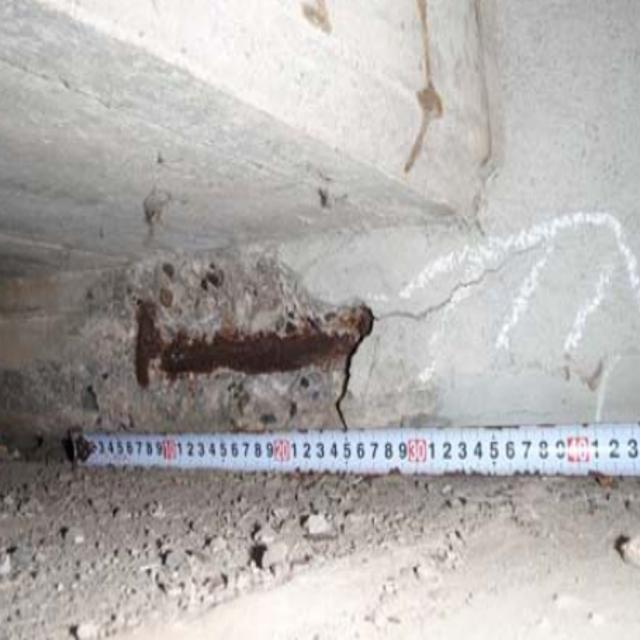spalling: (51, 266, 378, 423)
